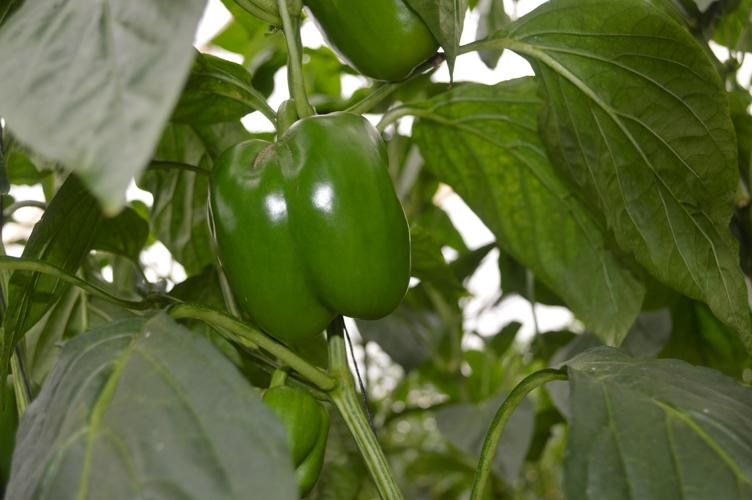BellPepper: (207, 114, 414, 335), (314, 8, 435, 84)
